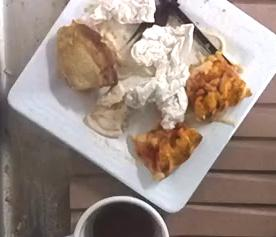pizza: (130, 123, 200, 179)
pizza_crust: (185, 50, 249, 118)
pork: (57, 20, 118, 91)
